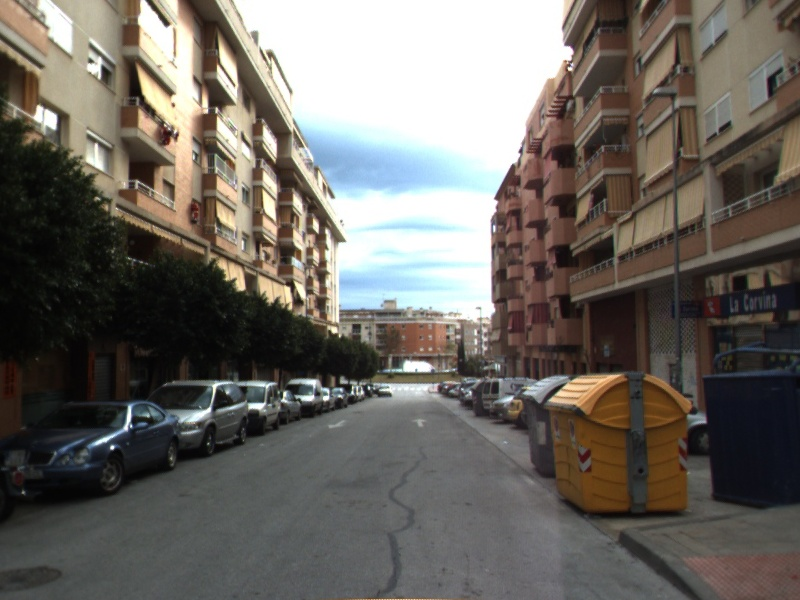STRAIGHT: (410, 416, 430, 429)
